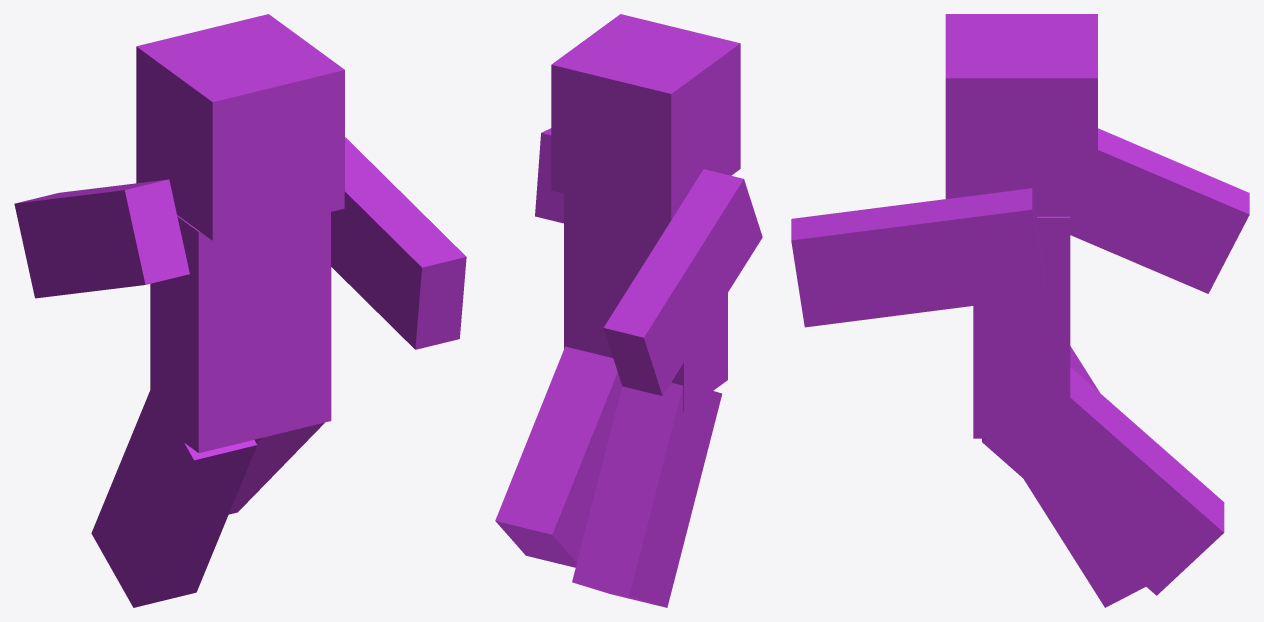
The model's file is donnie_body.gltf.
3 views of the same model, side by side, from view 1: azimuth 30°, elevation 25°; view 2: azimuth 150°, elevation 25°; view 3: azimuth 270°, elevation 25° (orthographic). The views are drawn at different scales.
Parts seen in each view (by area): view 1: Head, body, leg.1, arm, arm.1, leg; view 2: Head, leg.1, arm.1, leg, body, arm; view 3: Head, arm, leg, arm.1, body, leg.1.
Part boxes in pixels (<box>): Head: <box>136,14,344,240</box>; body: <box>150,212,331,452</box>; leg.1: <box>91,390,256,607</box>; arm: <box>331,137,466,349</box>; arm.1: <box>14,179,189,298</box>; leg: <box>229,422,324,514</box>; Head: <box>551,14,740,219</box>; leg.1: <box>572,382,722,607</box>; arm.1: <box>603,169,762,395</box>; leg: <box>495,346,622,567</box>; body: <box>564,193,727,412</box>; arm: <box>535,128,563,223</box>; Head: <box>945,14,1097,216</box>; arm: <box>791,188,1045,327</box>; leg: <box>982,367,1224,595</box>; arm.1: <box>1070,128,1249,293</box>; body: <box>973,216,1070,438</box>; leg.1: <box>1024,346,1145,607</box>.
Bounding box in the file's own units: 1.12 × 2.71 × 2.
